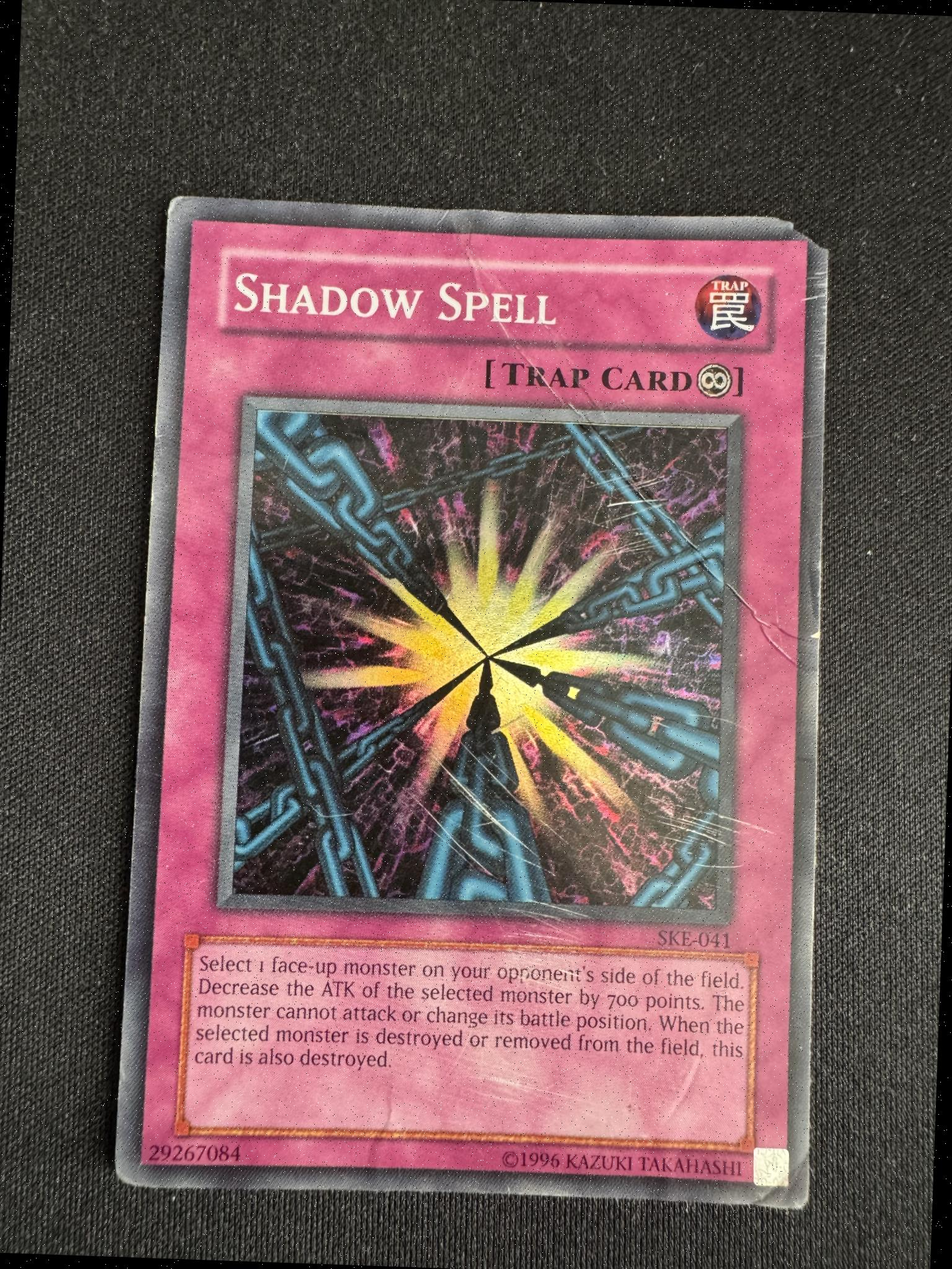card-2UtV: (115, 195, 829, 1209)
